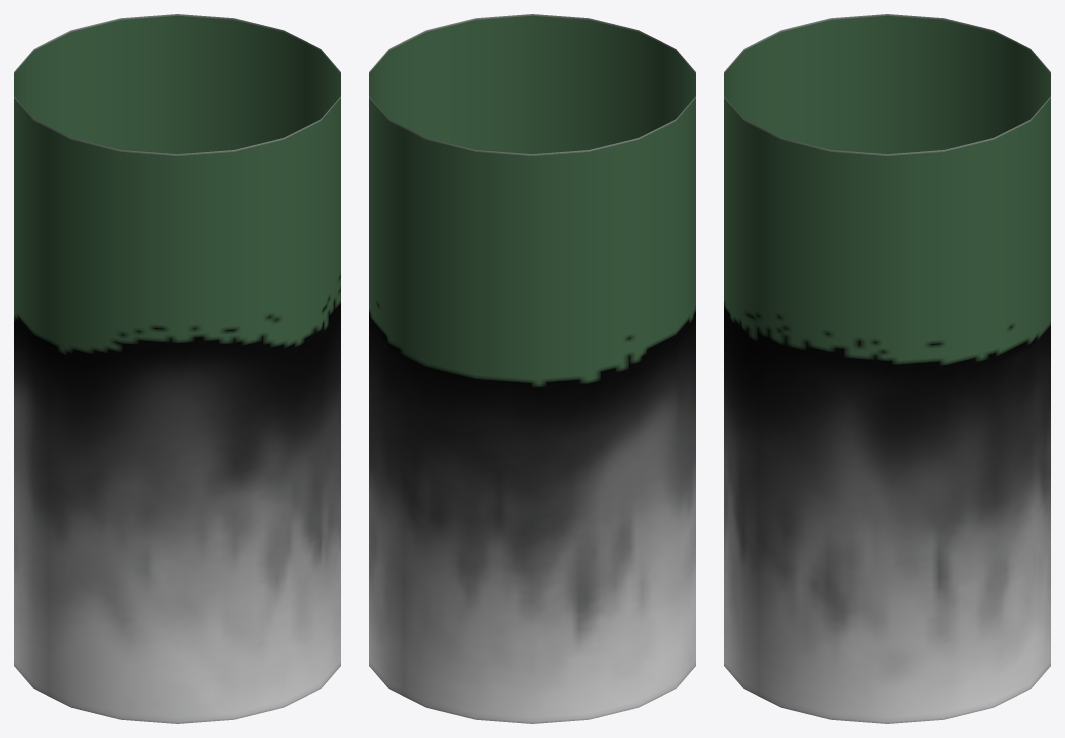
Rendered from yuanzhu_pian.FBX.
3 renders of one model, left to right at view 1: azimuth 30°, elevation 25°; view 2: azimuth 150°, elevation 25°; view 3: azimuth 270°, elevation 25°, orthographic.
Visible parts, largest first — view 1: Cylinder001; view 2: Cylinder001; view 3: Cylinder001.
Boxes of the visible parts, x1=… form: Cylinder001: x1=14, y1=14, x2=340, y2=723; Cylinder001: x1=369, y1=14, x2=695, y2=723; Cylinder001: x1=724, y1=14, x2=1050, y2=723.
Size of the model in its own units: 151 by 286 by 149.
